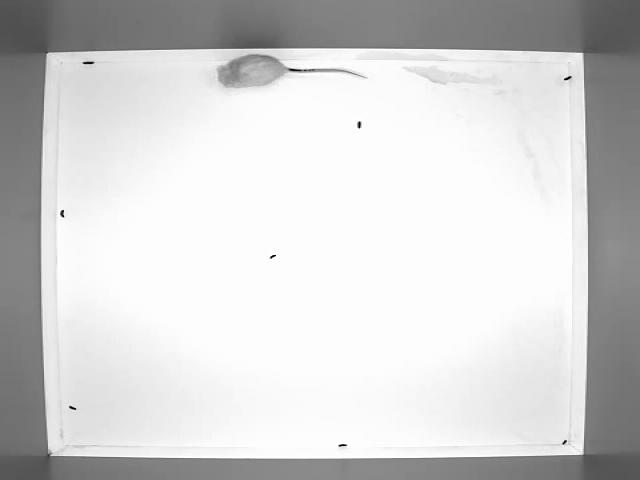Tikus: (218, 52, 368, 89)
